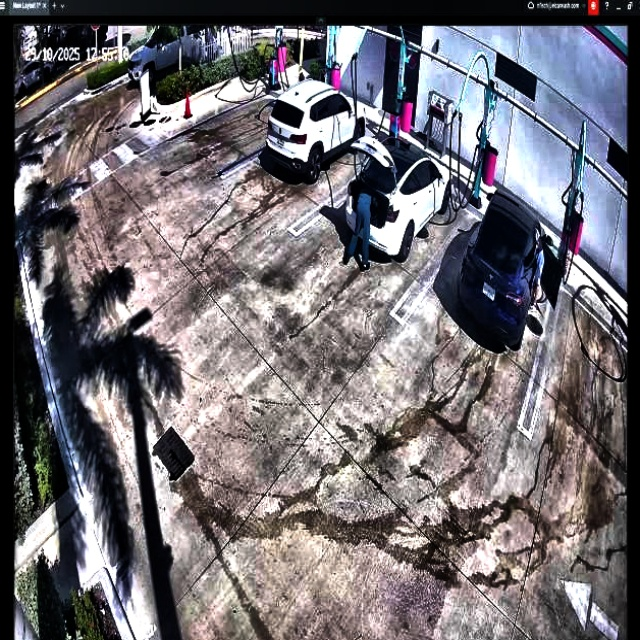Car: (459, 190, 560, 352), (343, 131, 452, 257), (266, 77, 365, 179)
